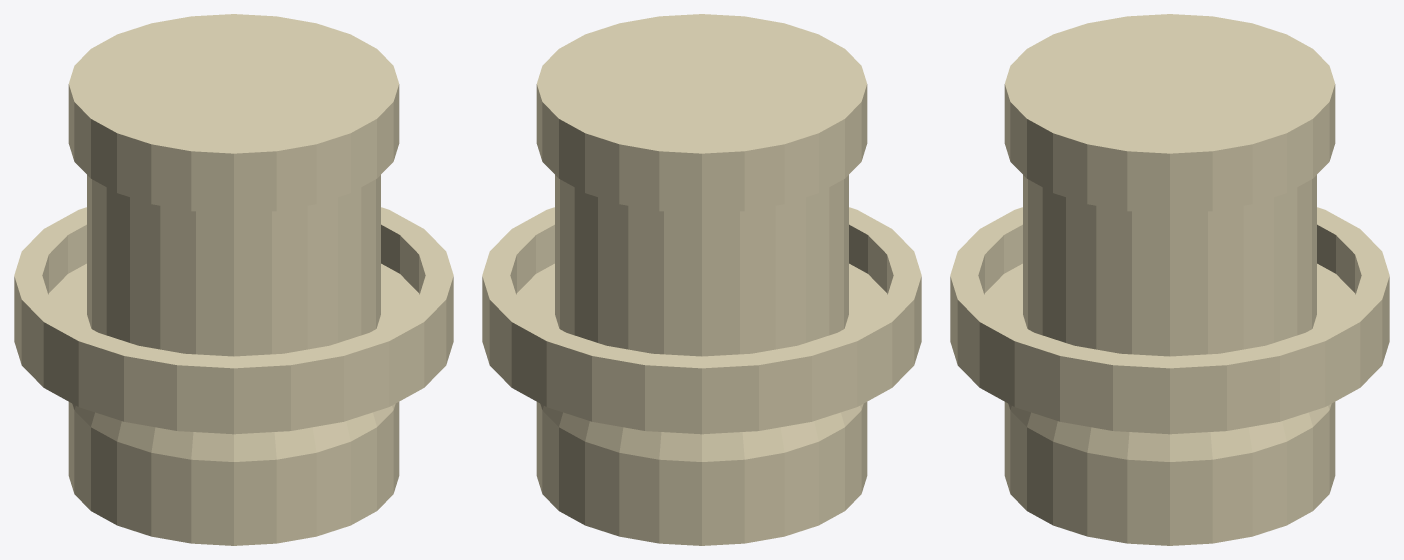
File: towerbalcony.glb
3 views of the same model, side by side, from view 1: azimuth 30°, elevation 25°; view 2: azimuth 150°, elevation 25°; view 3: azimuth 270°, elevation 25° (orthographic).
Visible parts, largest first — view 1: towerBalcony; view 2: towerBalcony; view 3: towerBalcony.
Boxes of the visible parts, left/top/right/bottom form: towerBalcony: left=14, top=14, right=453, bottom=545; towerBalcony: left=482, top=14, right=921, bottom=545; towerBalcony: left=950, top=14, right=1389, bottom=545.
Size of the model in its own units: 13.3 by 13.1 by 13.3.
